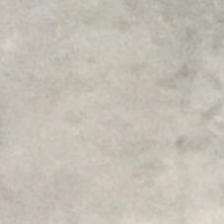Non_Crack: (32, 37, 216, 212)
